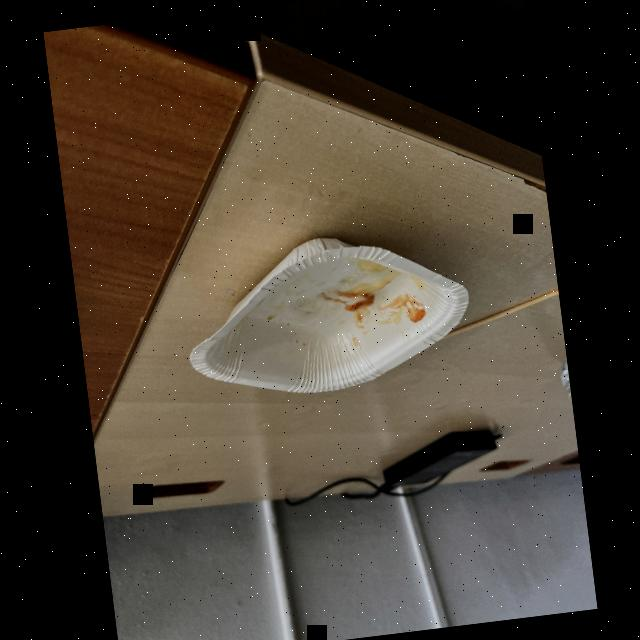cardboard_bowl: (165, 214, 482, 415)
stick: (438, 278, 562, 342)
